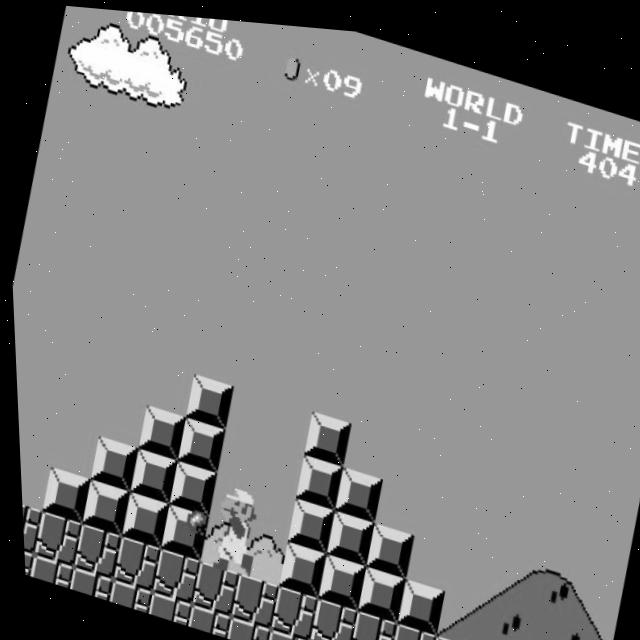17- undestructible_block: (27, 509, 79, 567), (145, 544, 197, 602), (184, 556, 236, 614), (263, 579, 315, 637), (66, 521, 118, 578), (105, 533, 157, 590), (223, 568, 275, 625), (302, 591, 354, 640), (341, 603, 393, 640), (141, 588, 187, 624), (23, 553, 69, 588), (63, 565, 109, 600), (102, 577, 148, 612), (181, 600, 227, 635), (381, 614, 432, 640), (220, 612, 266, 640), (17, 499, 39, 554), (259, 624, 305, 640), (420, 626, 471, 640), (19, 544, 30, 577), (299, 635, 344, 640), (459, 638, 510, 640)
4- fire_mario: (198, 471, 265, 576)
5- fireball: (179, 501, 205, 533)
9- hard_block: (36, 465, 88, 523), (83, 433, 135, 491), (75, 477, 127, 535), (123, 445, 175, 503), (179, 369, 231, 427), (297, 404, 349, 462), (311, 547, 363, 605), (359, 515, 411, 573), (350, 559, 402, 617), (132, 401, 184, 458), (114, 489, 166, 546), (162, 457, 214, 514), (154, 501, 206, 558), (289, 448, 341, 505), (280, 492, 332, 549), (319, 504, 371, 561), (171, 413, 223, 469), (328, 460, 380, 516), (272, 536, 323, 593), (390, 571, 441, 628), (585, 629, 608, 640)
